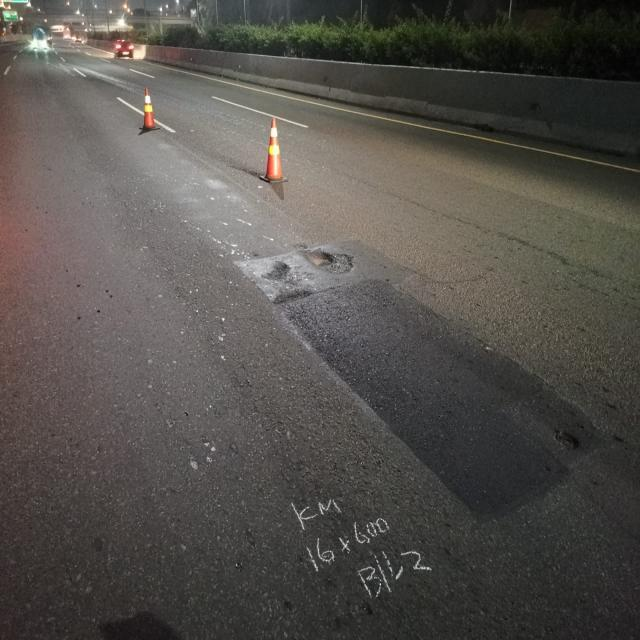Buraco: (294, 248, 356, 276), (270, 285, 320, 309), (548, 428, 583, 453), (259, 260, 292, 282)
